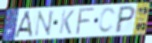A: (13, 10, 34, 39)
C: (97, 6, 117, 34)
F: (74, 7, 97, 36)
K: (58, 9, 76, 36)
N: (33, 9, 55, 38)
P: (113, 5, 137, 35)
